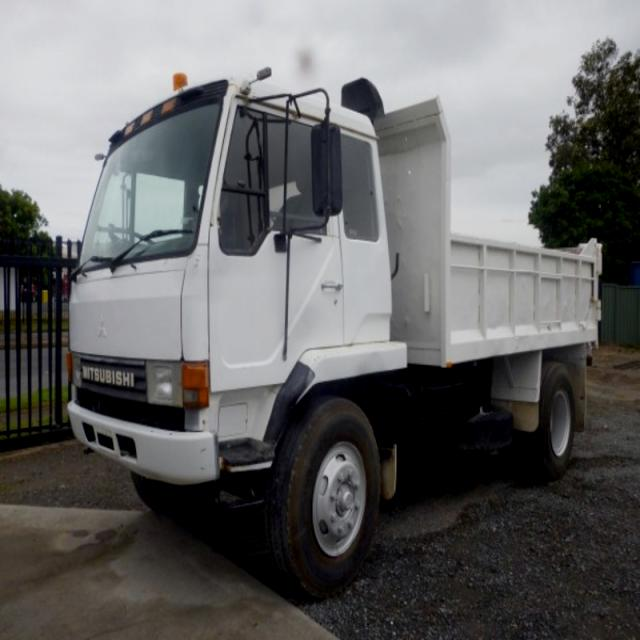truck: (65, 78, 607, 584)
